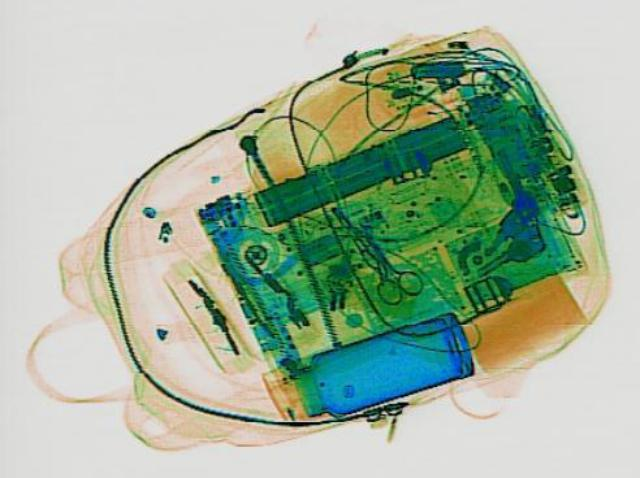Scissors: (346, 227, 428, 303)
